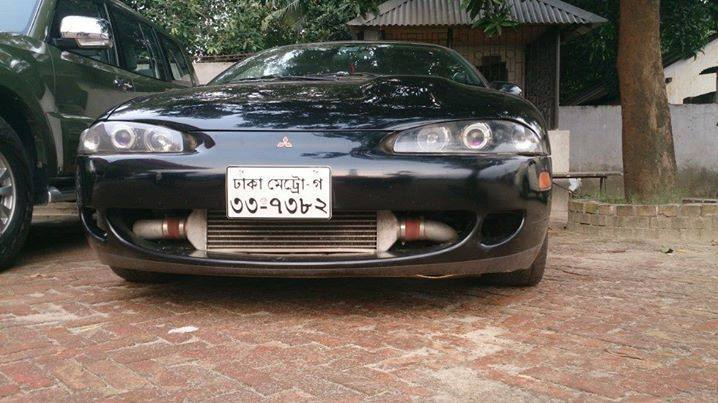registration_plate: (225, 164, 333, 221)
